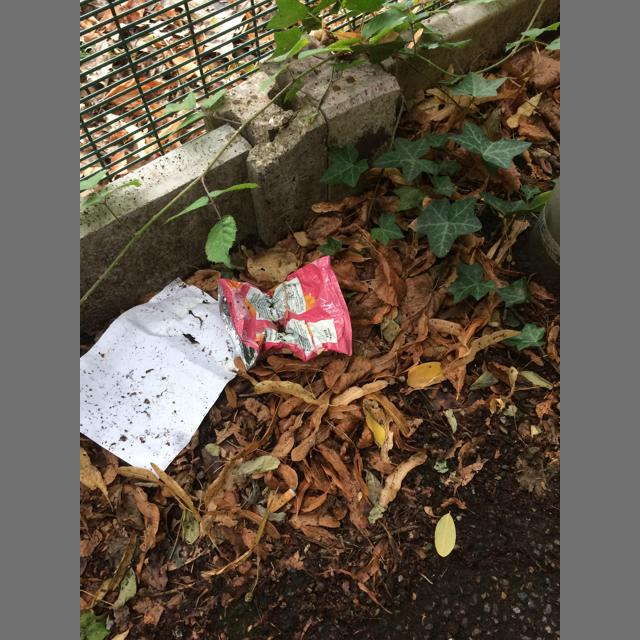litter: (80, 277, 240, 479), (218, 255, 352, 371), (270, 489, 297, 513)
